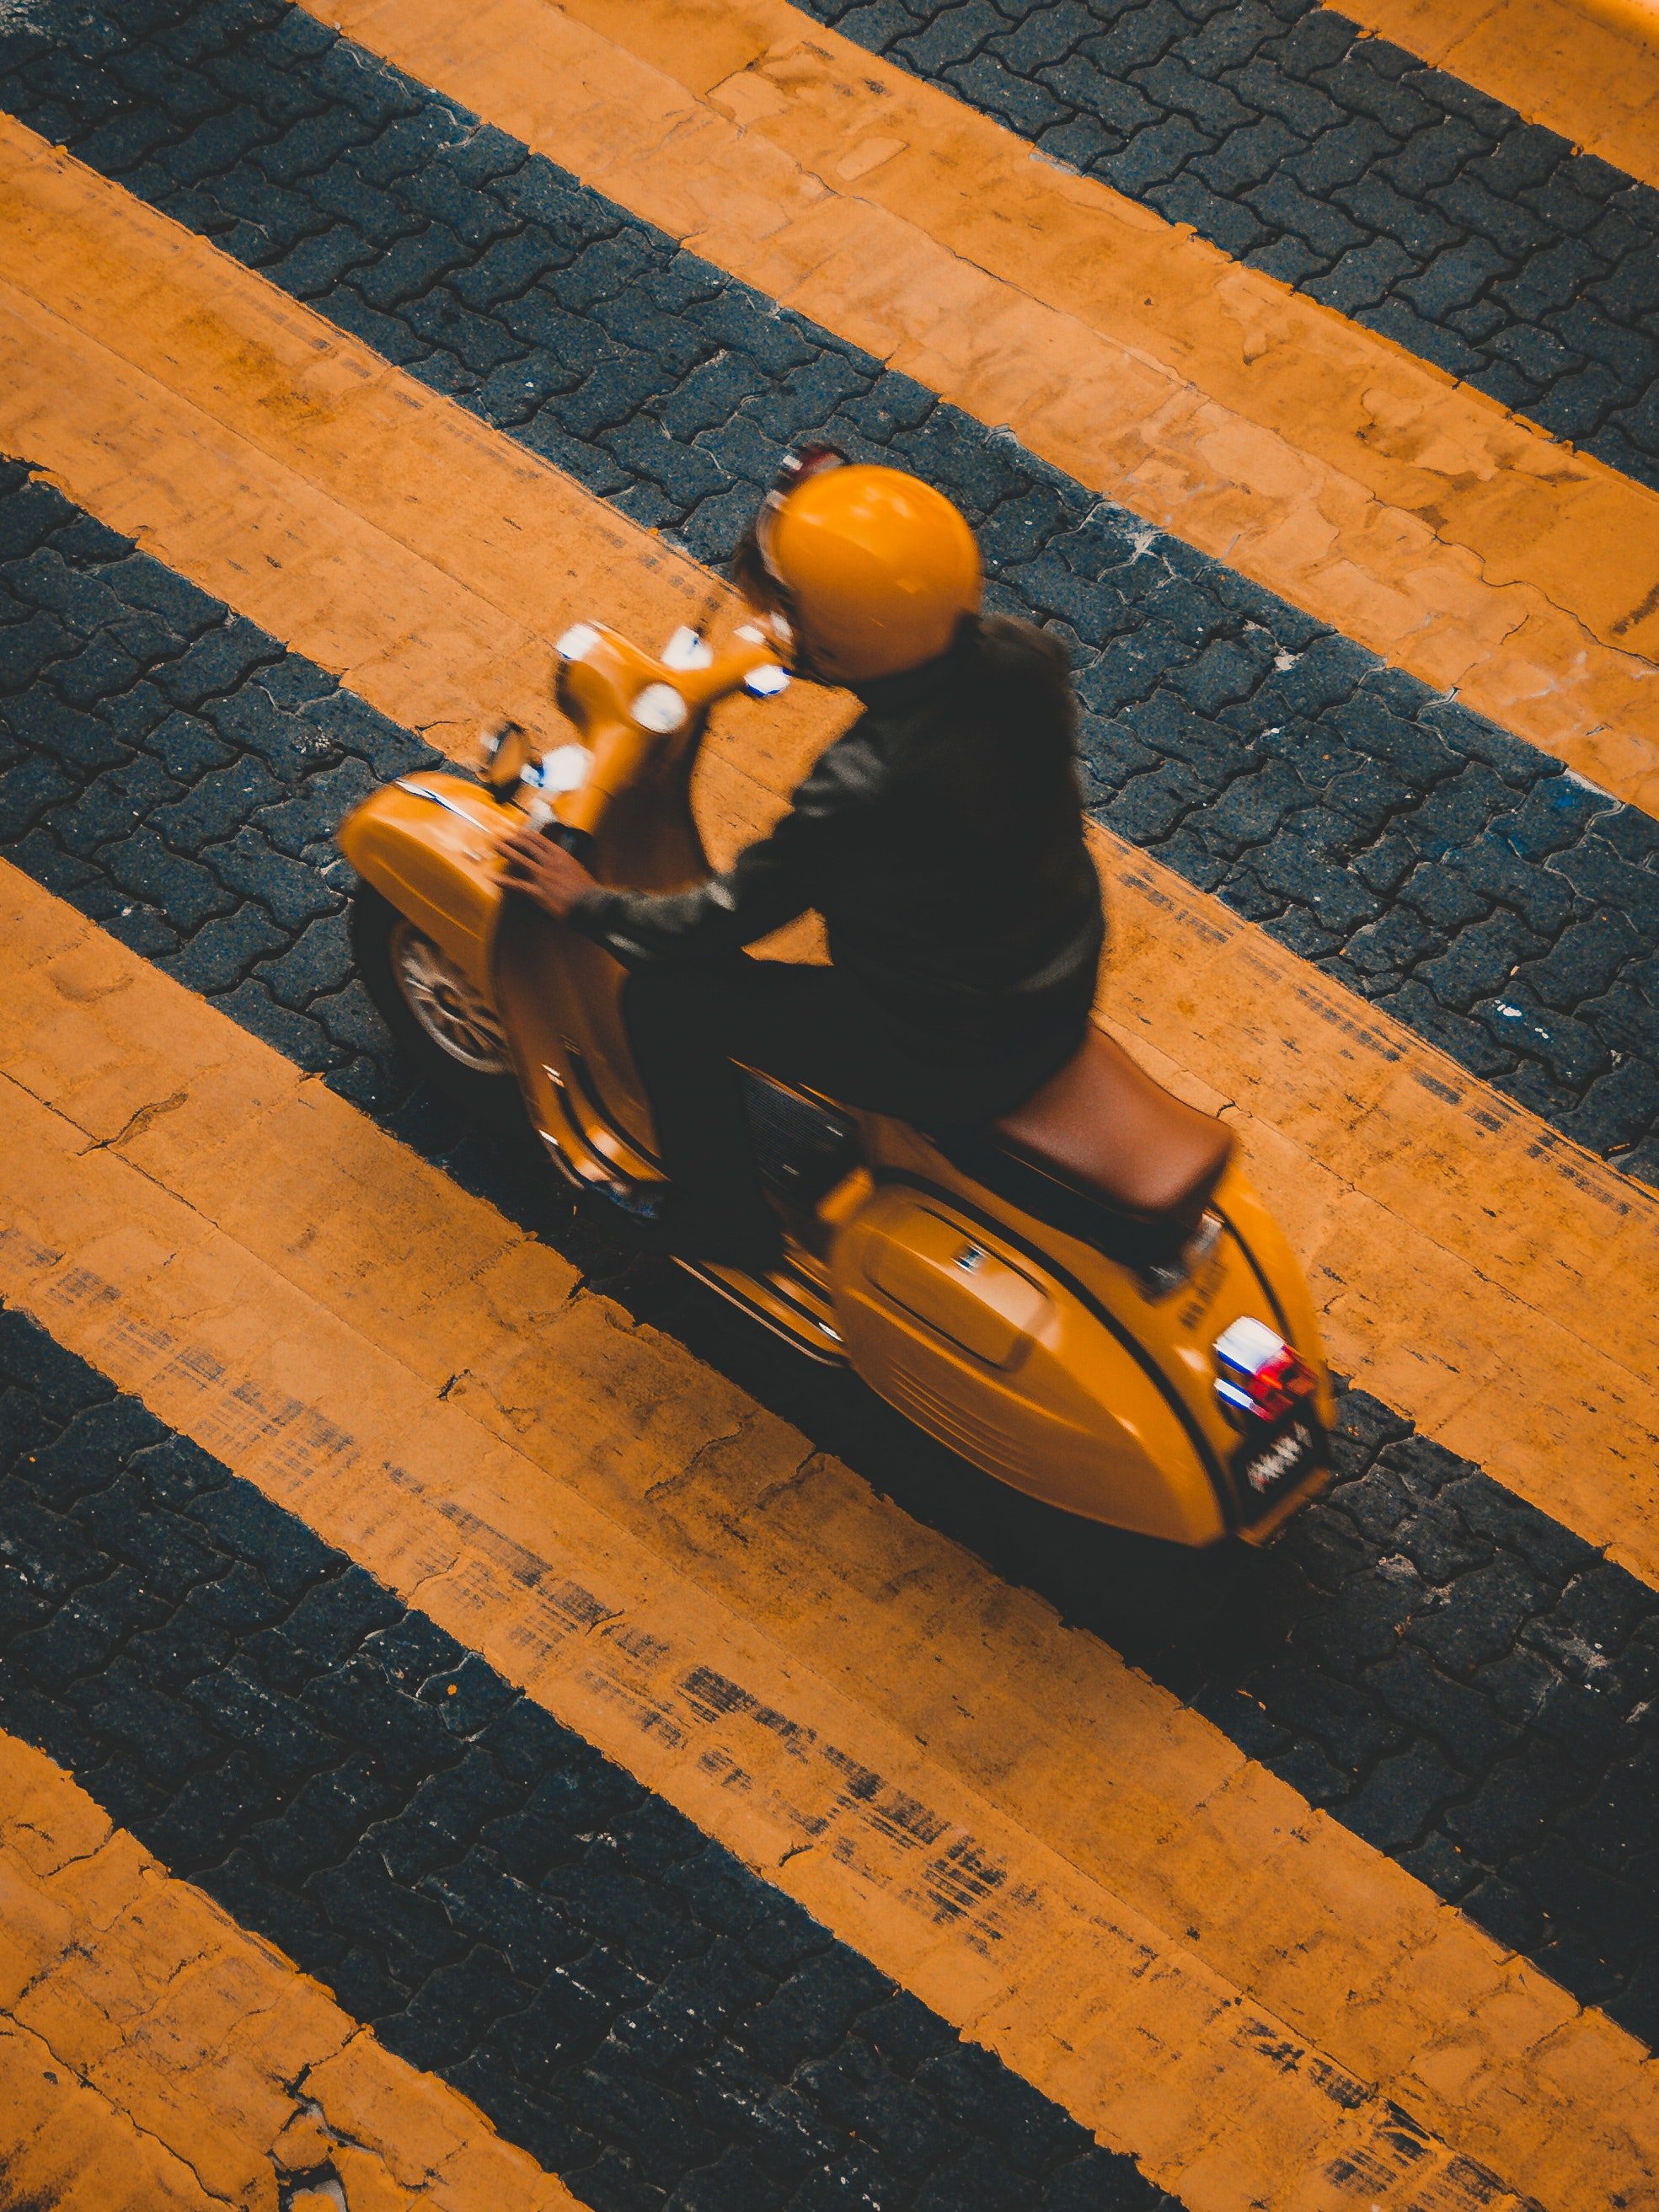bike: (335, 567, 1351, 1536)
